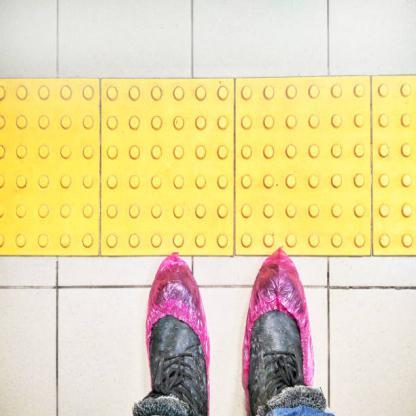podotacti: (1, 77, 414, 256)
